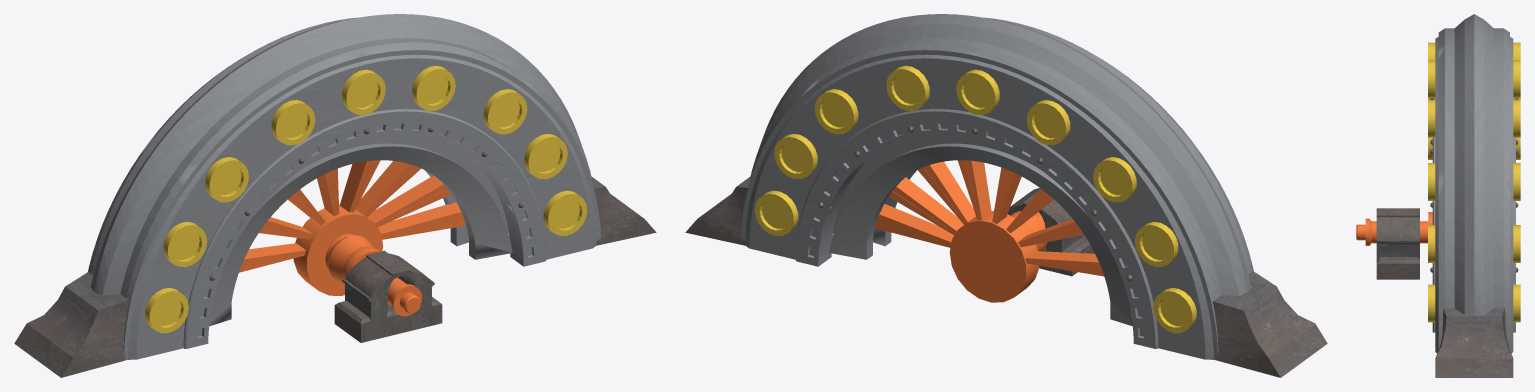
The model's file is grande_roue.fbx.
3 renders of one model, left to right at view 1: azimuth 30°, elevation 25°; view 2: azimuth 150°, elevation 25°; view 3: azimuth 270°, elevation 25°, orthographic. The views are drawn at different scales.
Visible parts, largest first — view 1: grande_roue; view 2: grande_roue; view 3: grande_roue.
Boxes of the visible parts, x1,y1,x2,y2 form: grande_roue: (14, 14, 656, 377); grande_roue: (685, 14, 1327, 377); grande_roue: (1356, 14, 1520, 377).
Bounding box in the file's own units: 733 × 321 × 210.
